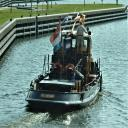tugboat: (25, 7, 104, 114)
